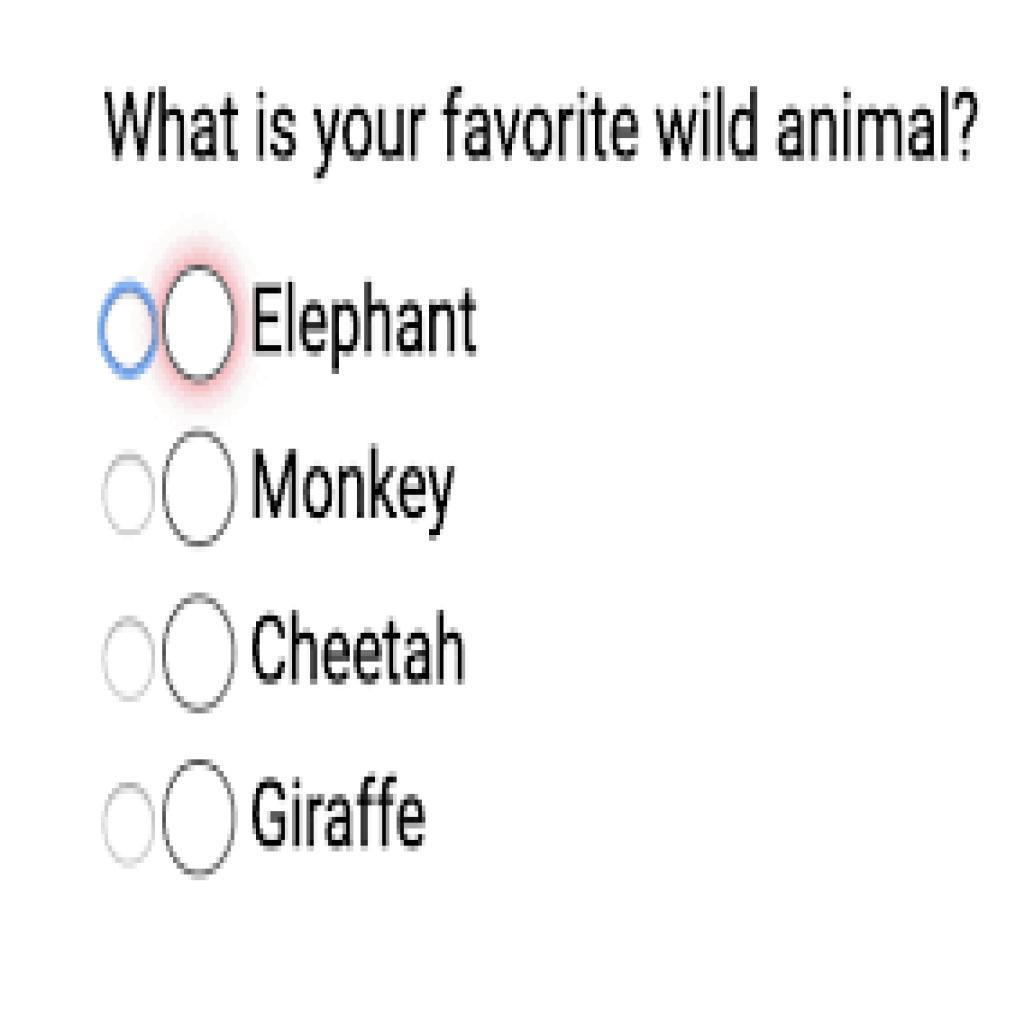label: (99, 83, 977, 175), (247, 437, 463, 535), (256, 606, 477, 696), (253, 276, 488, 360), (247, 769, 433, 852)
radio: (159, 590, 242, 718), (164, 747, 238, 884), (166, 433, 248, 553), (168, 276, 238, 389), (100, 771, 162, 876), (95, 611, 162, 707), (96, 283, 158, 385), (105, 454, 163, 549)
